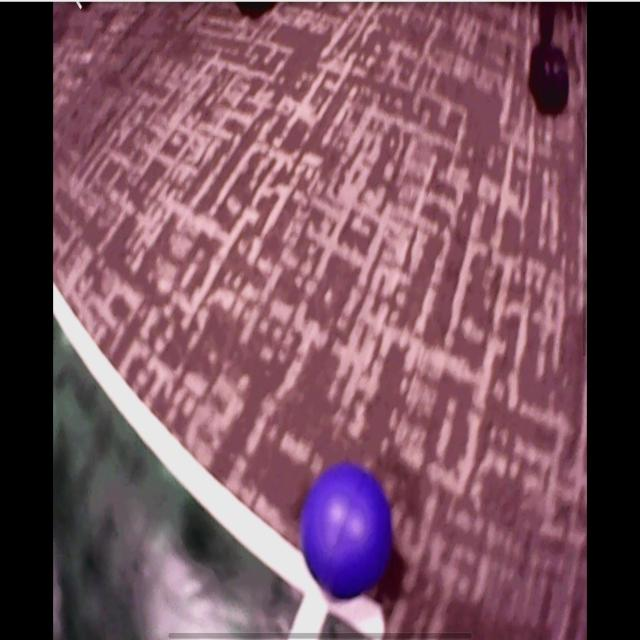ball: (302, 465, 393, 600)
